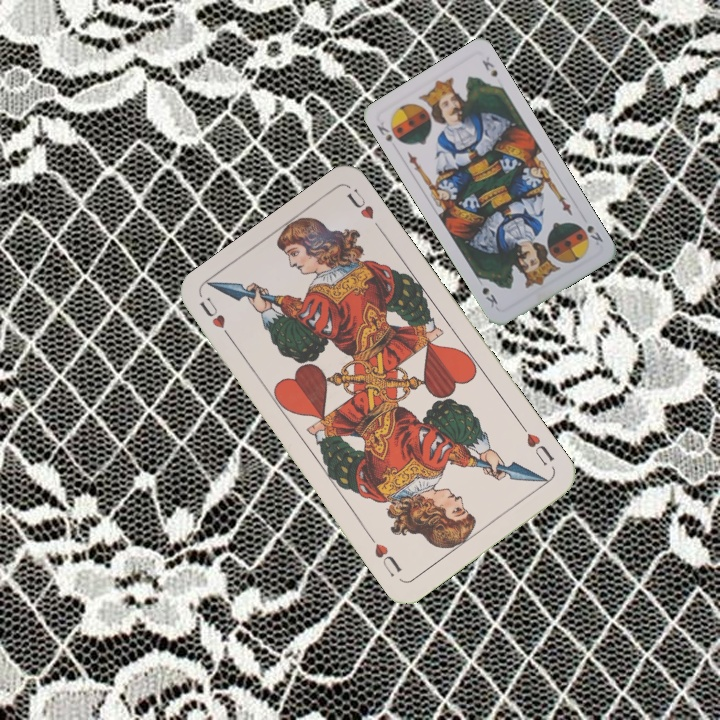HU: (195, 293, 237, 345), (516, 420, 557, 469)
SK: (372, 116, 395, 145), (583, 221, 606, 248)
